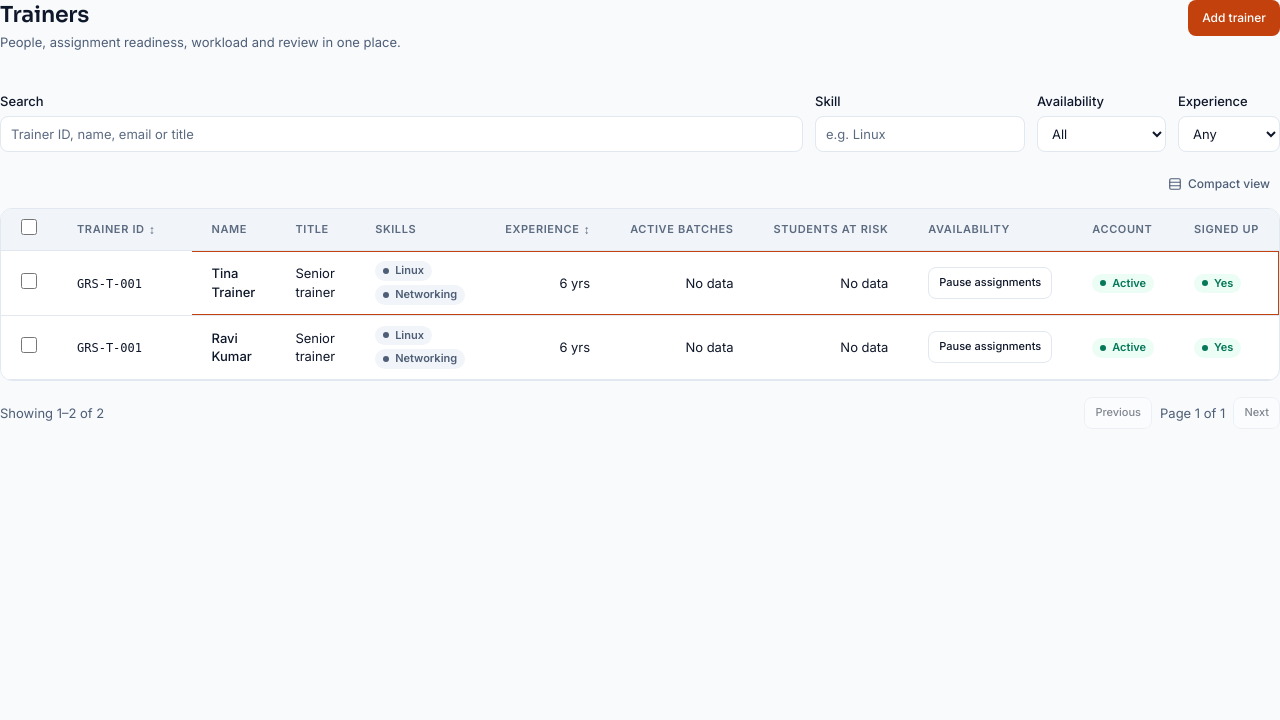
Test: TrainersHub — acting on many trainers › resends invitations to the ticked trainers
This screenshot has width=1280, height=720.
Click the checkbox named "Select Tina Trainer".
click(29, 281)  # box [21,273,37,289]
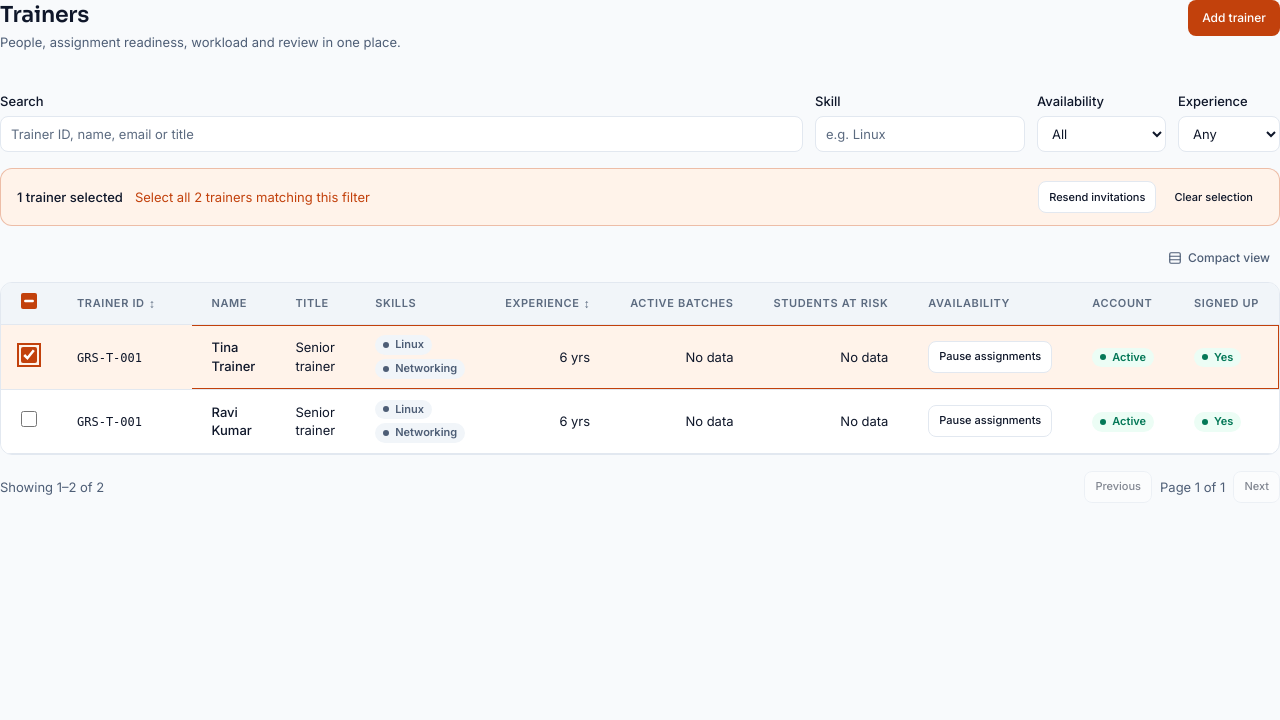
Click the checkbox named "Select Ravi Kumar".
click(29, 419)  # box [21,411,37,427]
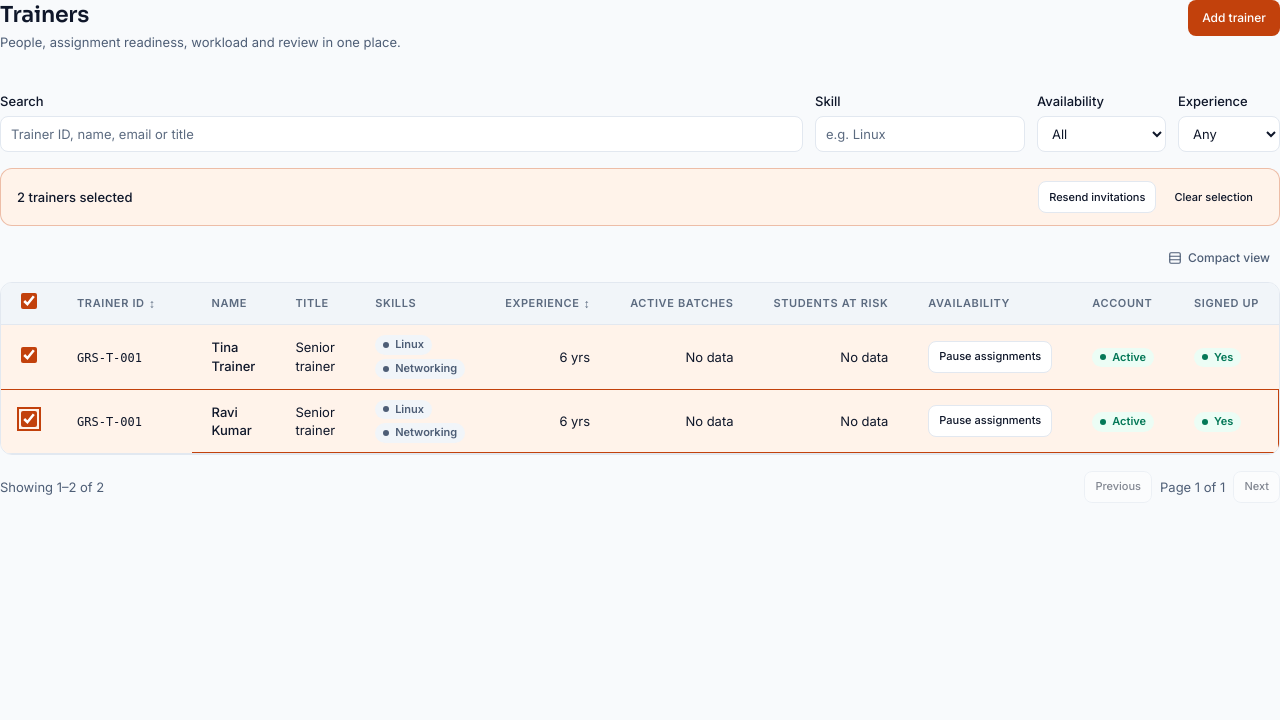
Click the button "Resend invitations".
click(1097, 198)  # box [1038,182,1156,214]
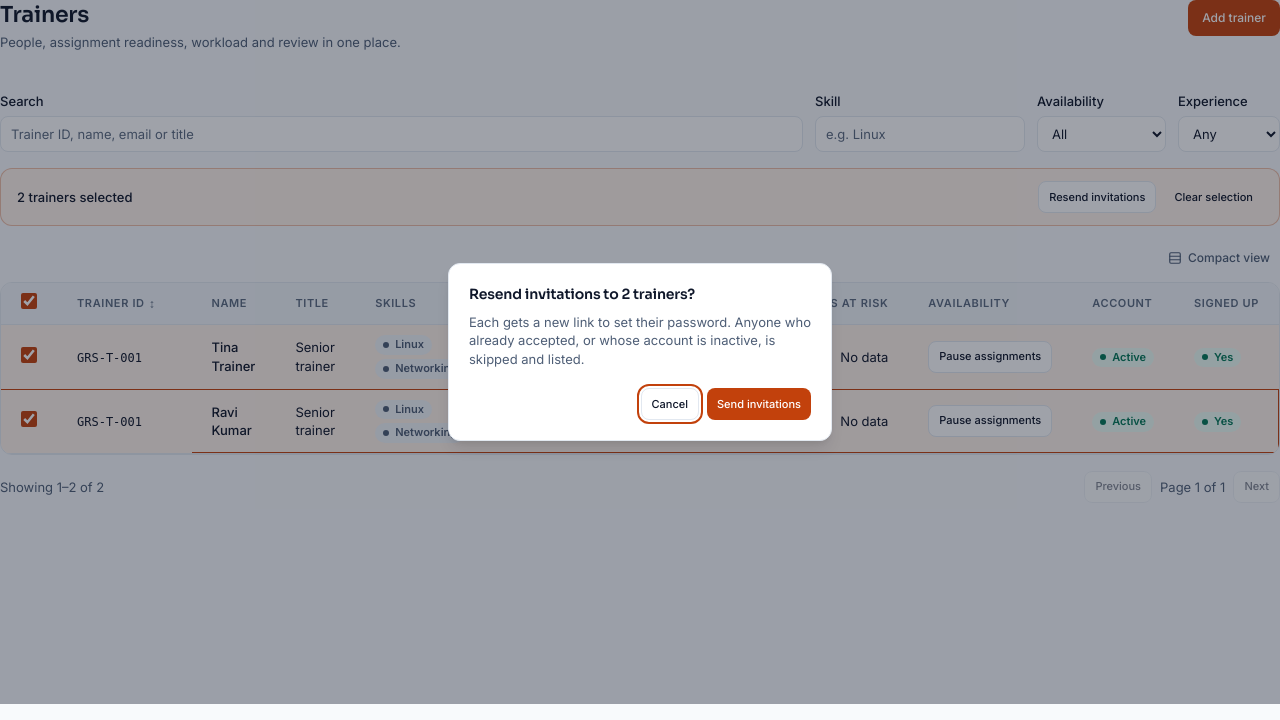
Click the button "Send invitations".
click(759, 404)  # box [707,388,811,420]
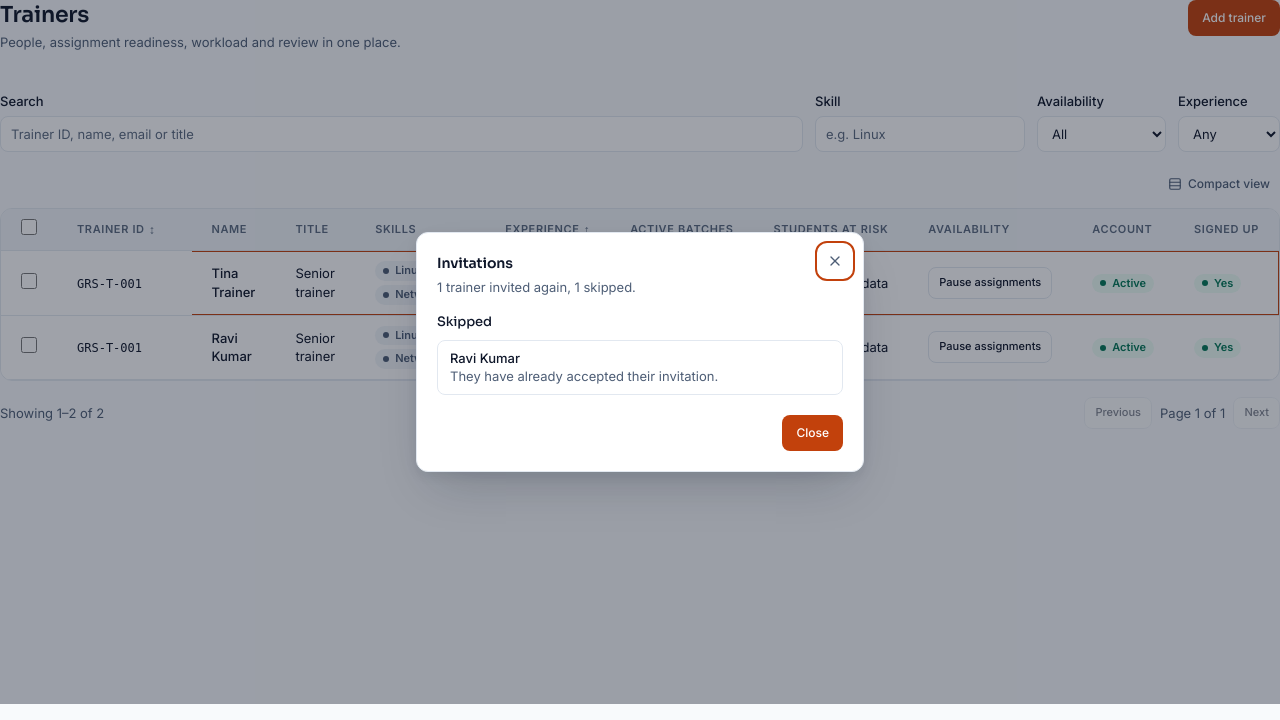
Now the dialog "Invitations" shows "They have already accepted their invitation.", box [450,368,718,384]
